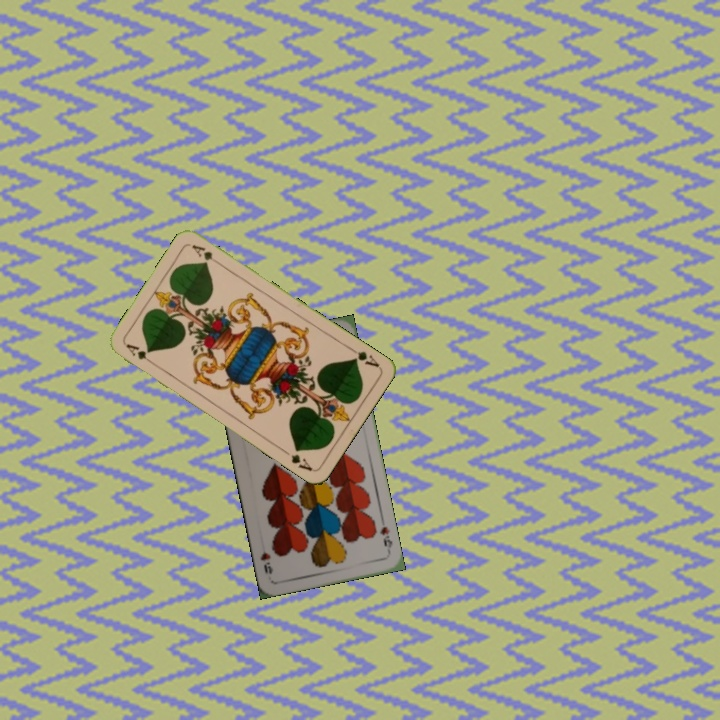GA: (345, 343, 382, 370), (122, 340, 157, 368)
H9: (376, 522, 395, 550)
